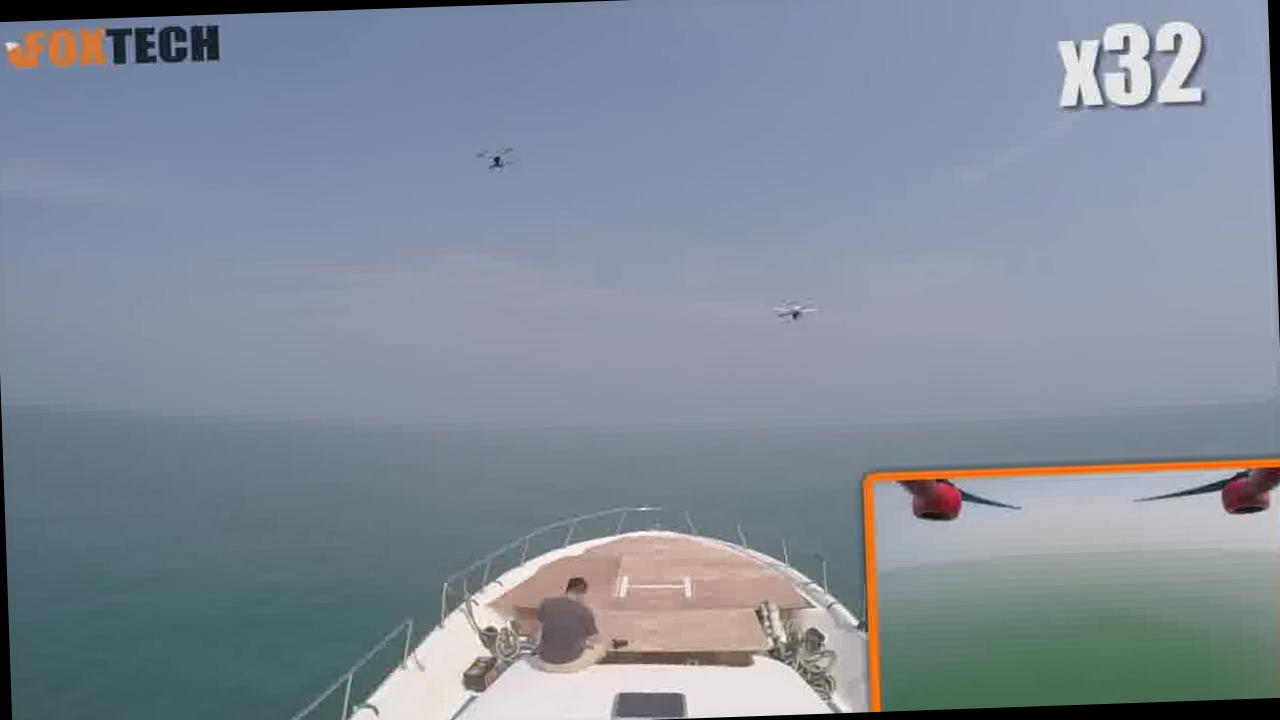drone: (758, 290, 836, 329), (469, 132, 527, 182)
